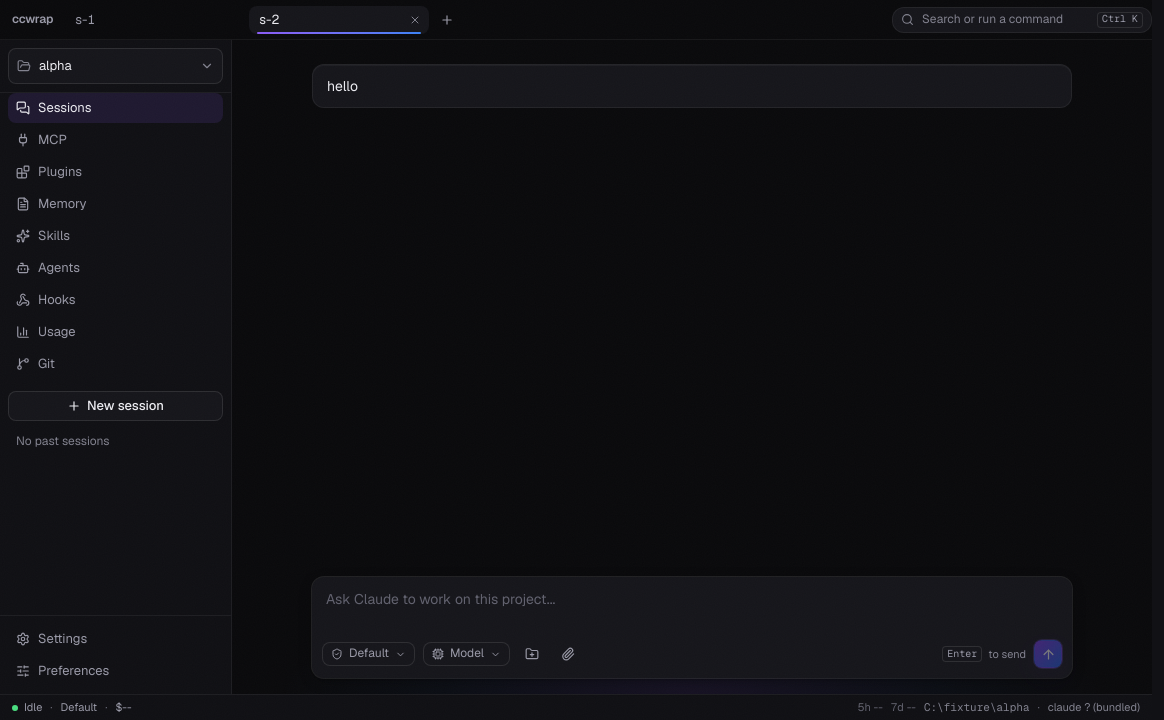
Test: opening and switching › a draft typed in tab A survives a switch to B and back
Click the tab "s-1".
click(143, 20)  # box [65,6,221,34]
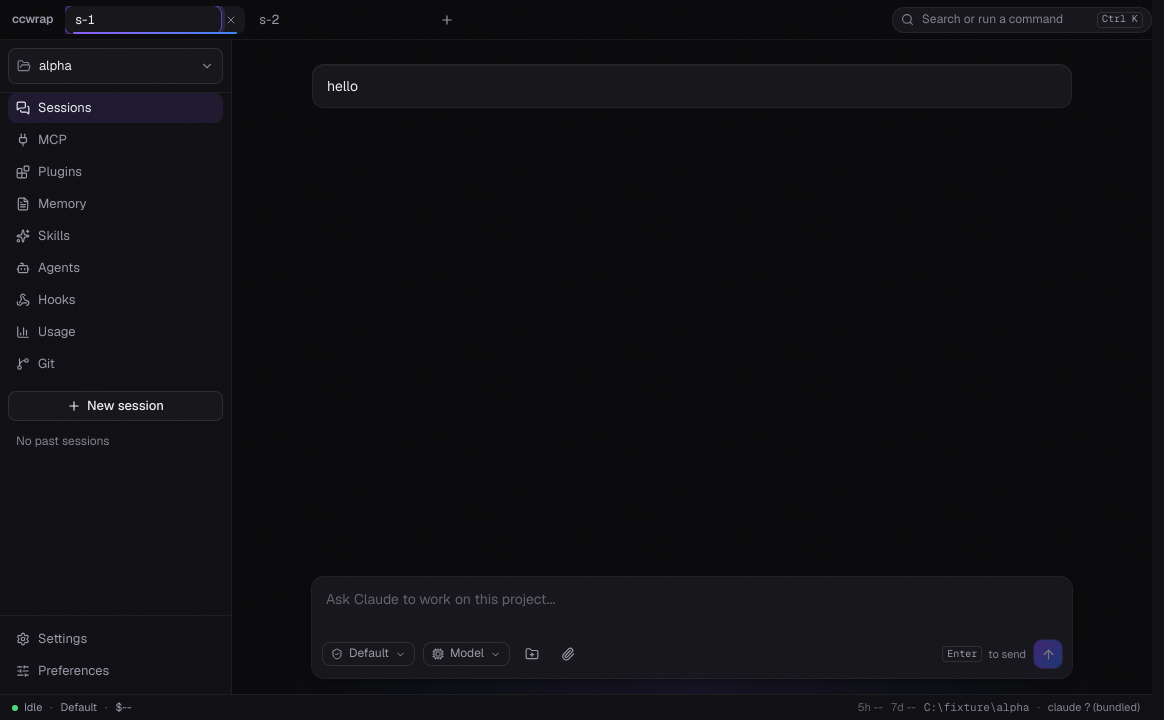
Type "half a thought" into the text box named "Message".
click(692, 606); type("half a thought")  # box [312,577,1072,636]
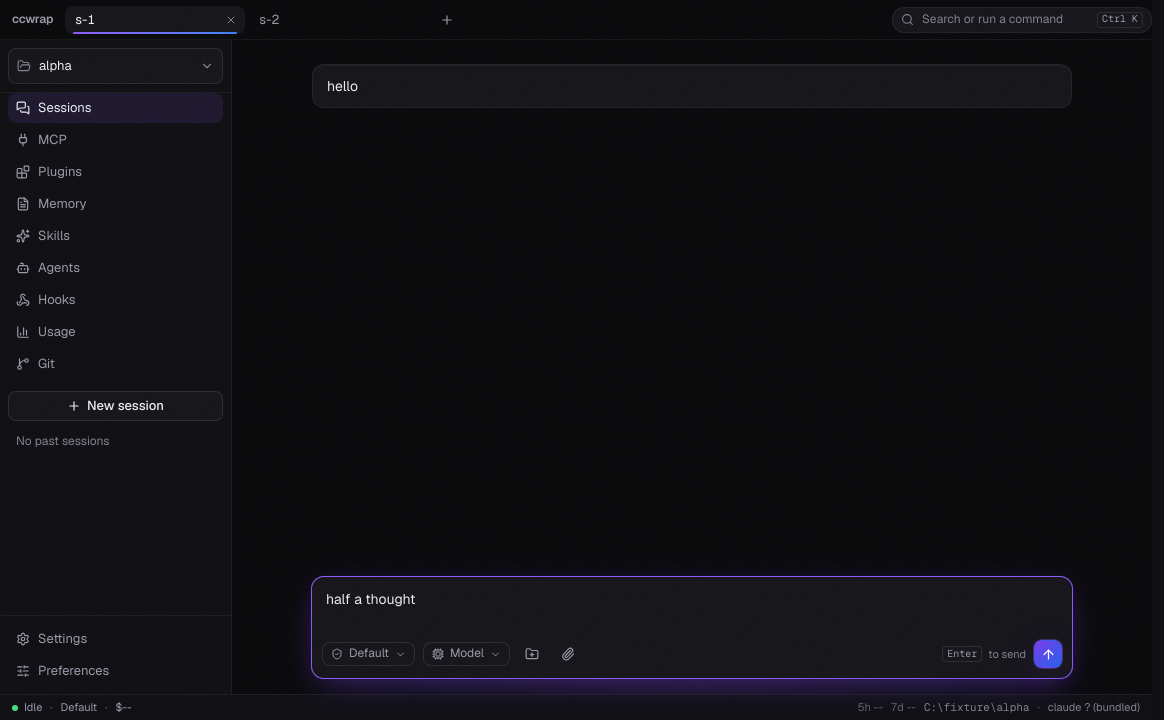
Click the tab "s-2".
click(327, 20)  # box [249,6,405,34]
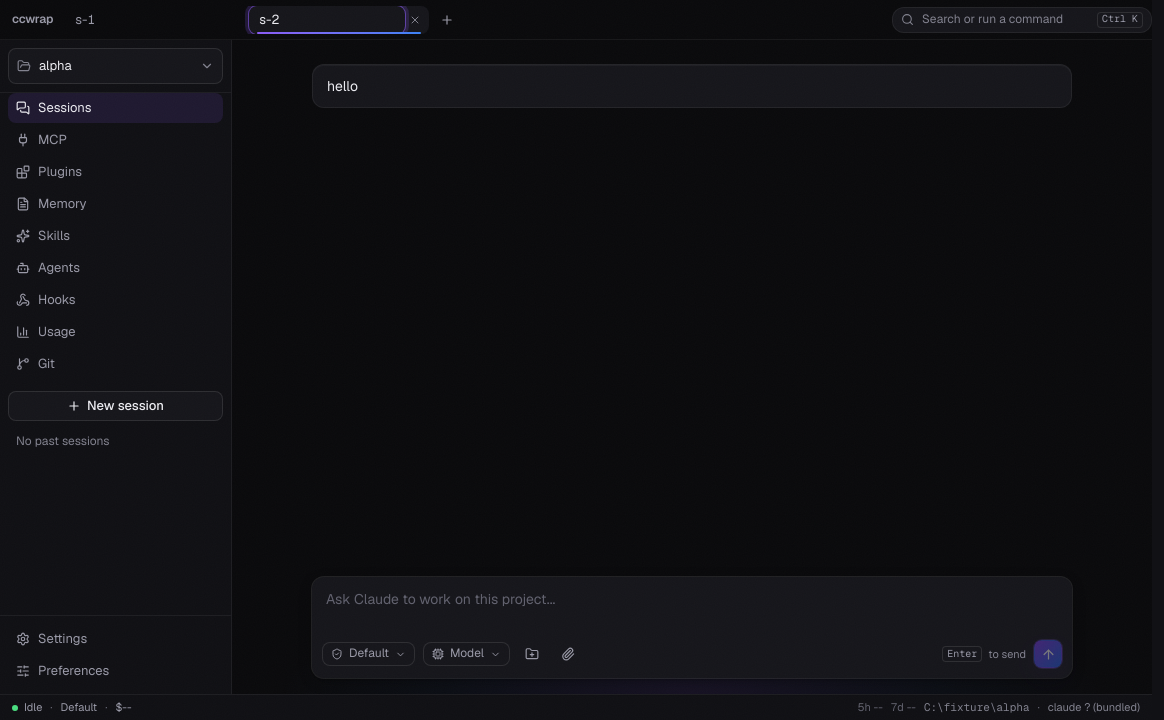
Now the text box named "Message" is empty, box [312,577,1072,636]
Click the tab "s-1".
click(143, 20)  # box [65,6,221,34]
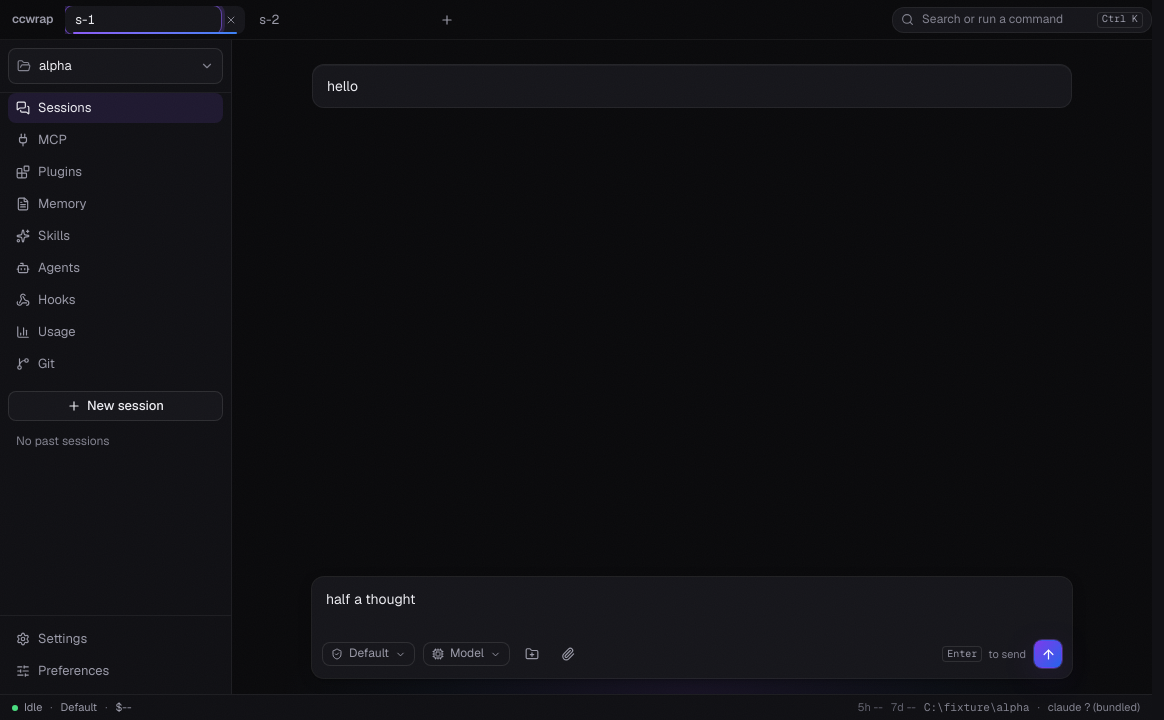
Now the text box named "Message" holds "half a thought", box [312,577,1072,636]
